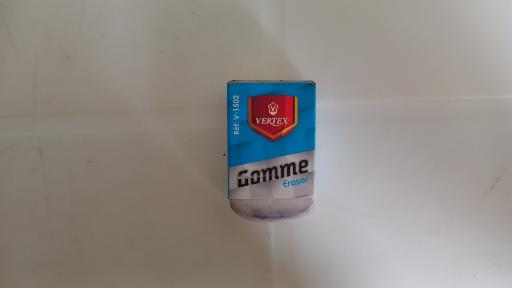Eraser: (225, 81, 318, 223)
